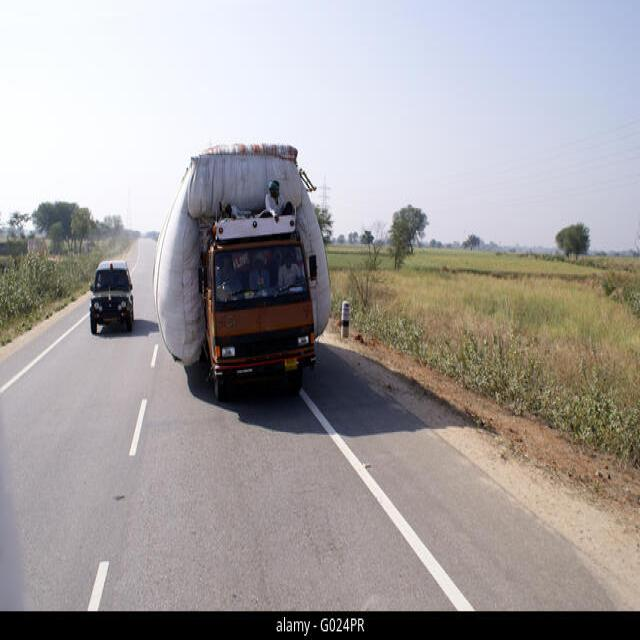goods: (154, 145, 330, 365)
truck: (201, 215, 315, 397)
